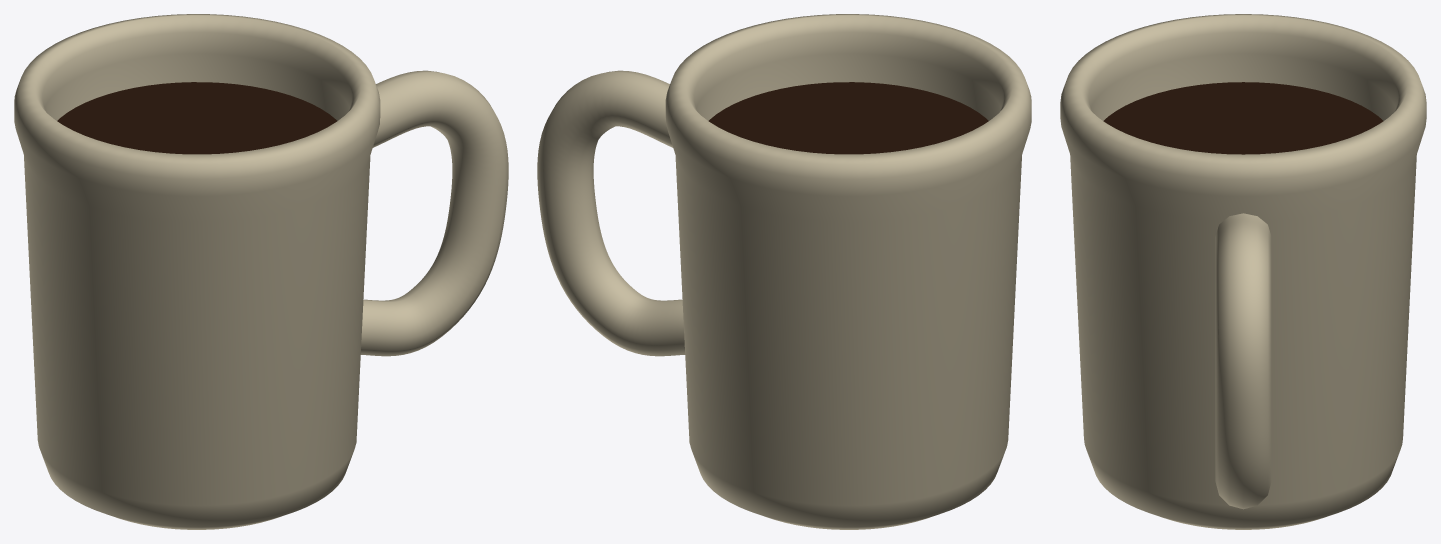
File: coffee-mug.glb
3 renders of one model, left to right at view 1: azimuth 30°, elevation 25°; view 2: azimuth 150°, elevation 25°; view 3: azimuth 270°, elevation 25°, orthographic.
Parts seen in each view (by area): view 1: Coffee mug — hollow ceramic body, Coffee mug — rounded handle, Coffee surface; view 2: Coffee mug — hollow ceramic body, Coffee mug — rounded handle, Coffee surface; view 3: Coffee mug — hollow ceramic body, Coffee mug — rounded handle, Coffee surface.
Boxes of the visible parts, box(x1,y1,x2,y2) form: Coffee mug — hollow ceramic body: box(14, 14, 380, 529); Coffee mug — rounded handle: box(360, 70, 508, 356); Coffee surface: box(57, 82, 337, 154); Coffee mug — hollow ceramic body: box(665, 14, 1031, 529); Coffee mug — rounded handle: box(537, 70, 685, 356); Coffee surface: box(708, 82, 988, 154); Coffee mug — hollow ceramic body: box(1060, 14, 1426, 529); Coffee mug — rounded handle: box(1215, 213, 1271, 509); Coffee surface: box(1103, 82, 1383, 154).
Bounding box in the file's own units: 0.1147 × 0.092 × 0.078.
